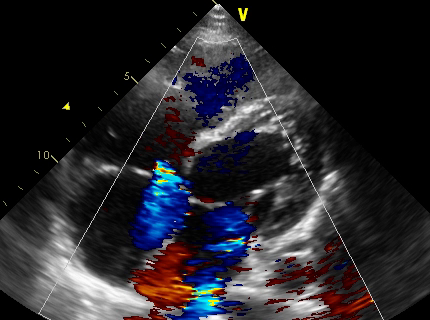TR: (129, 159, 181, 222)
